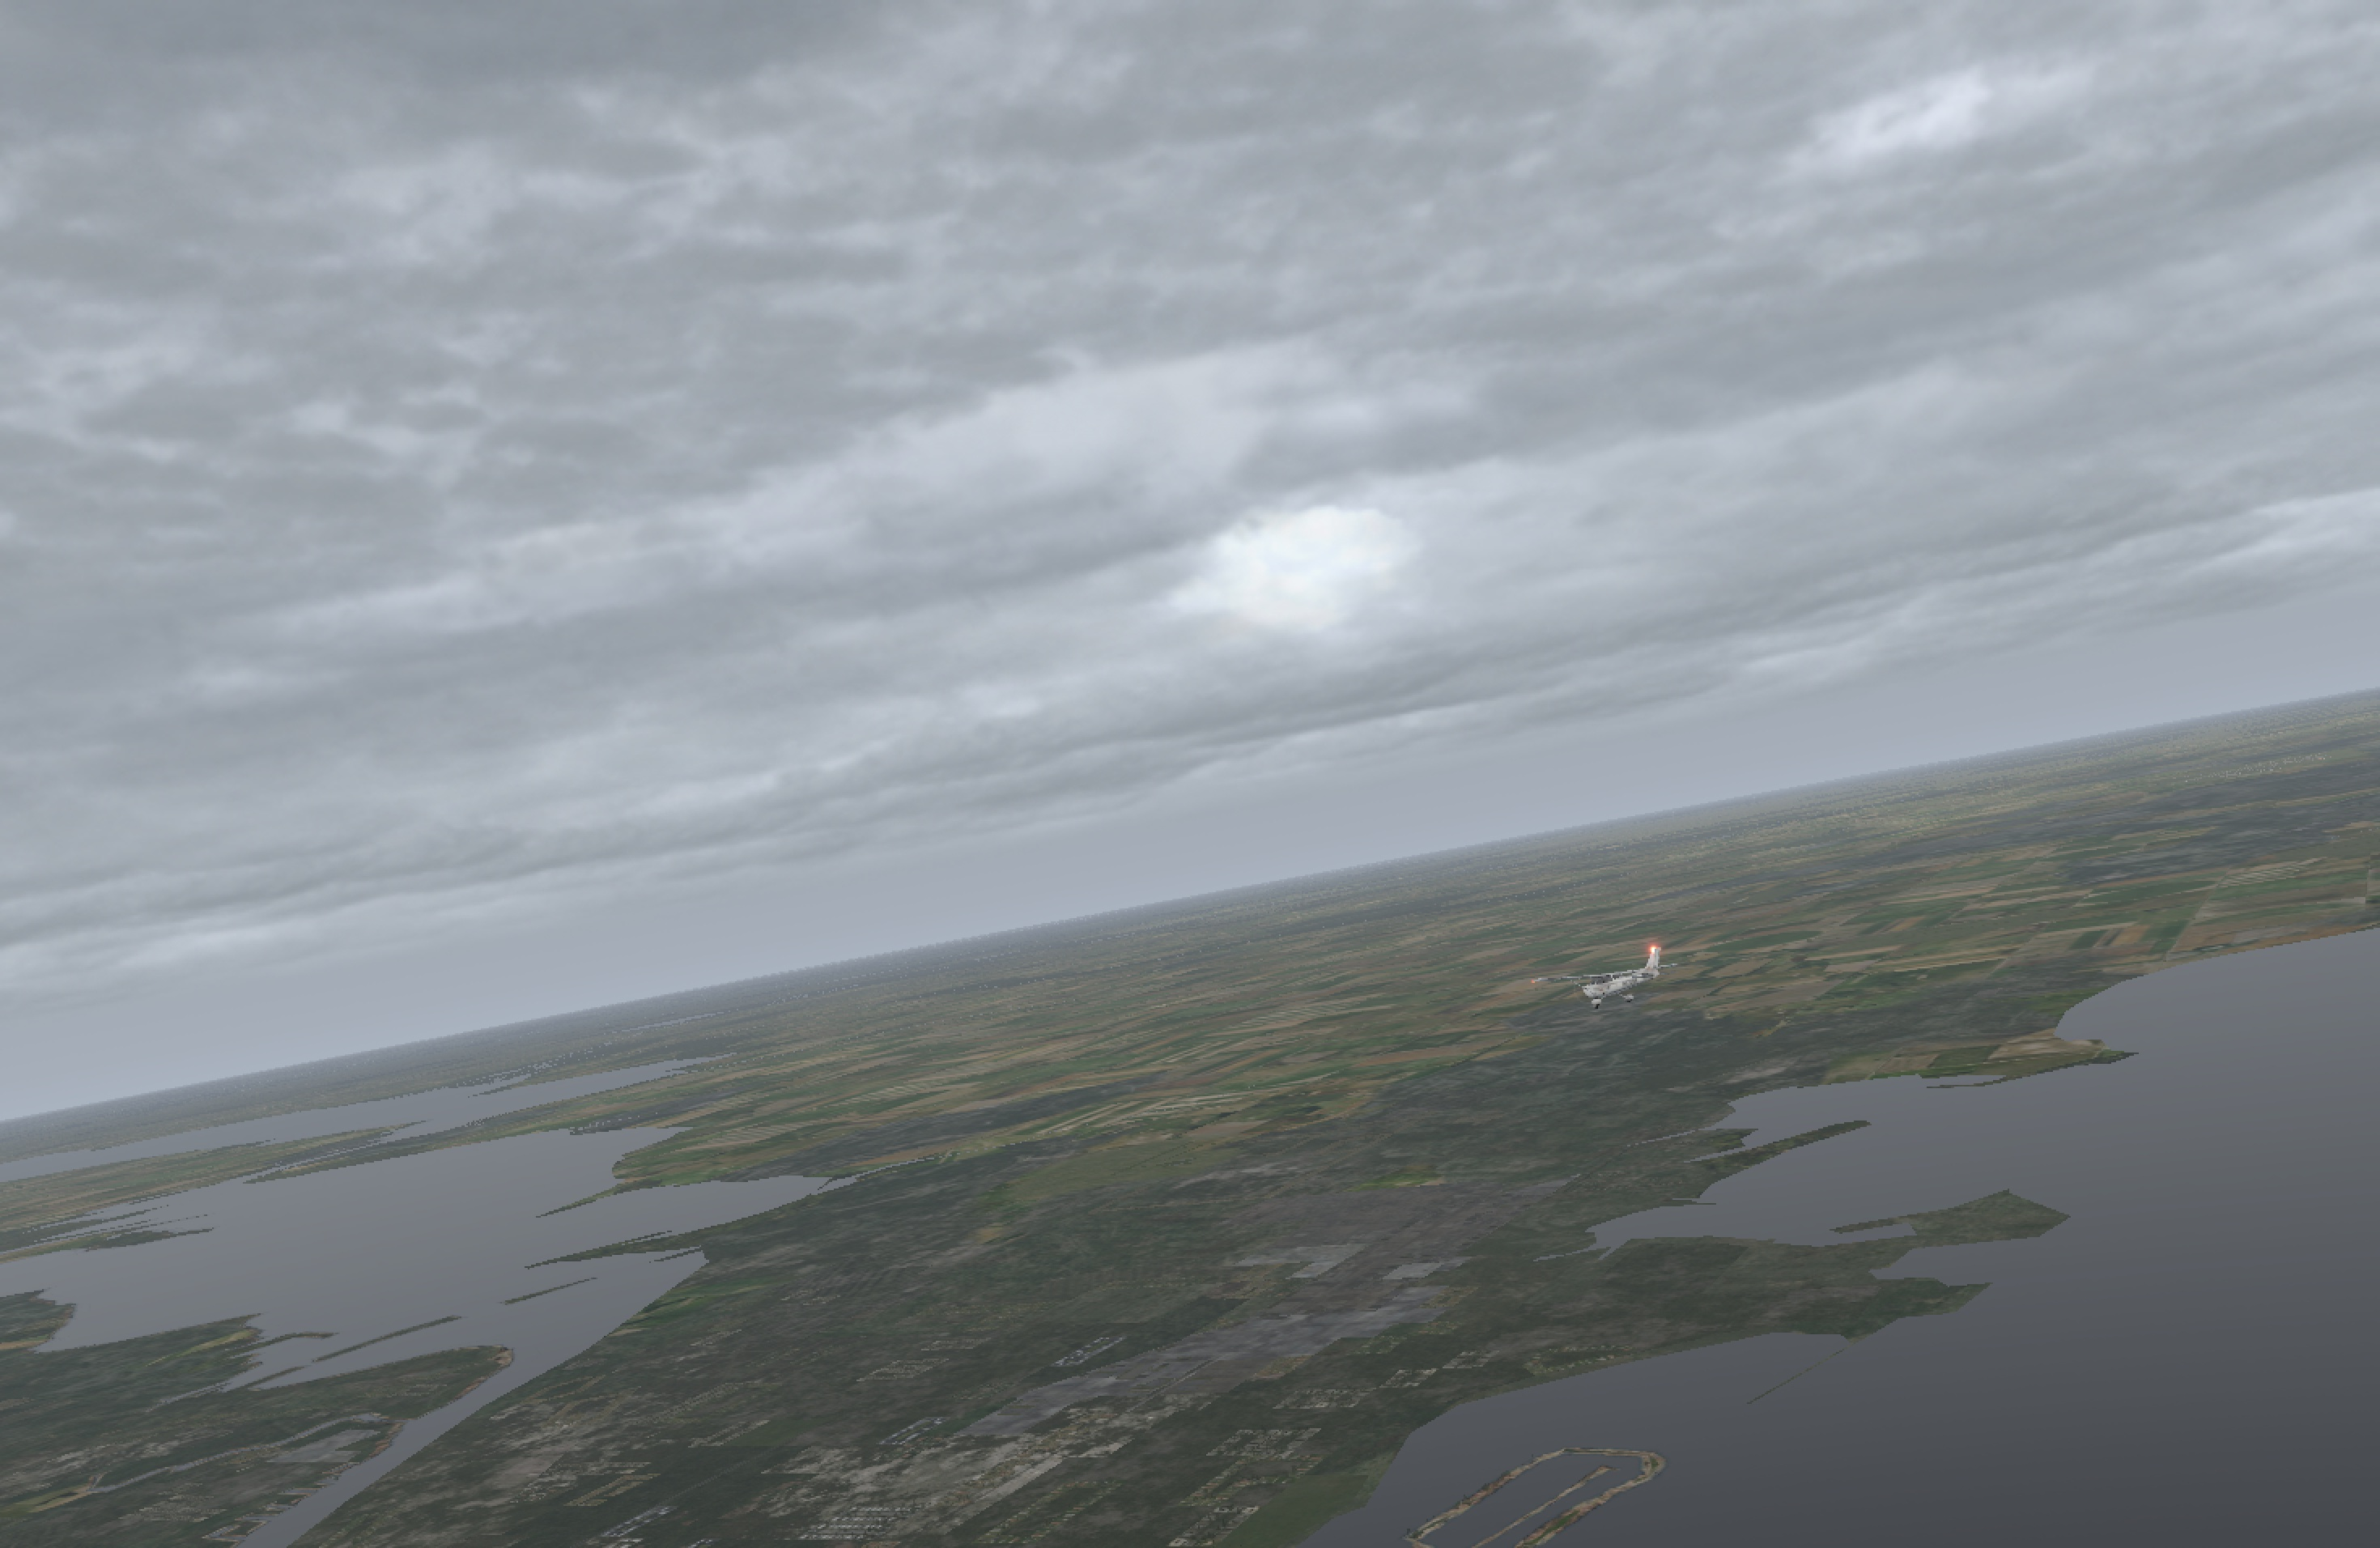aircraft: (1546, 961, 1667, 1007)
